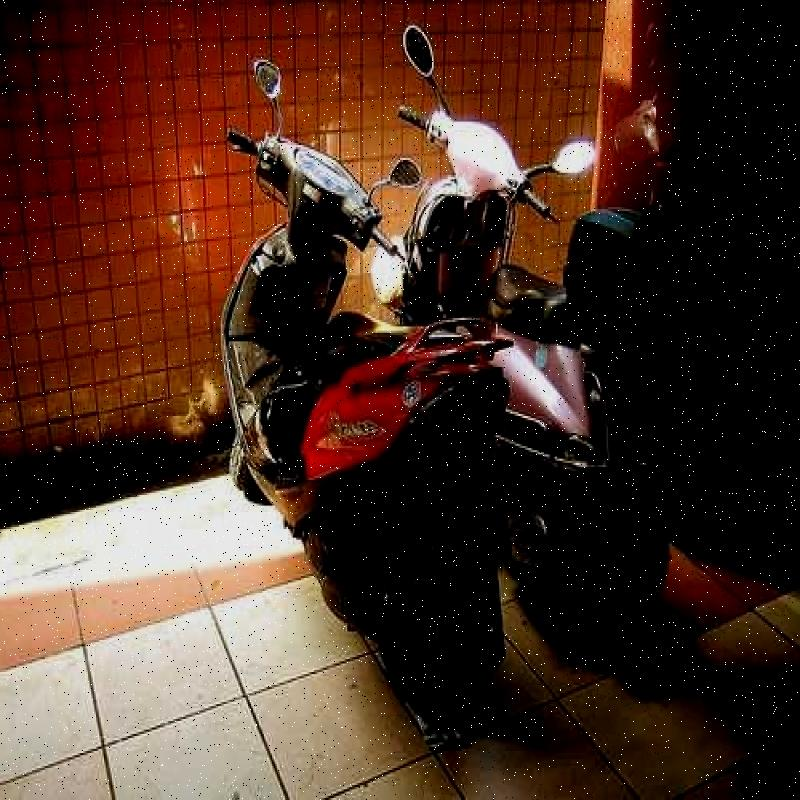bike: (144, 50, 487, 526), (390, 9, 667, 595)
